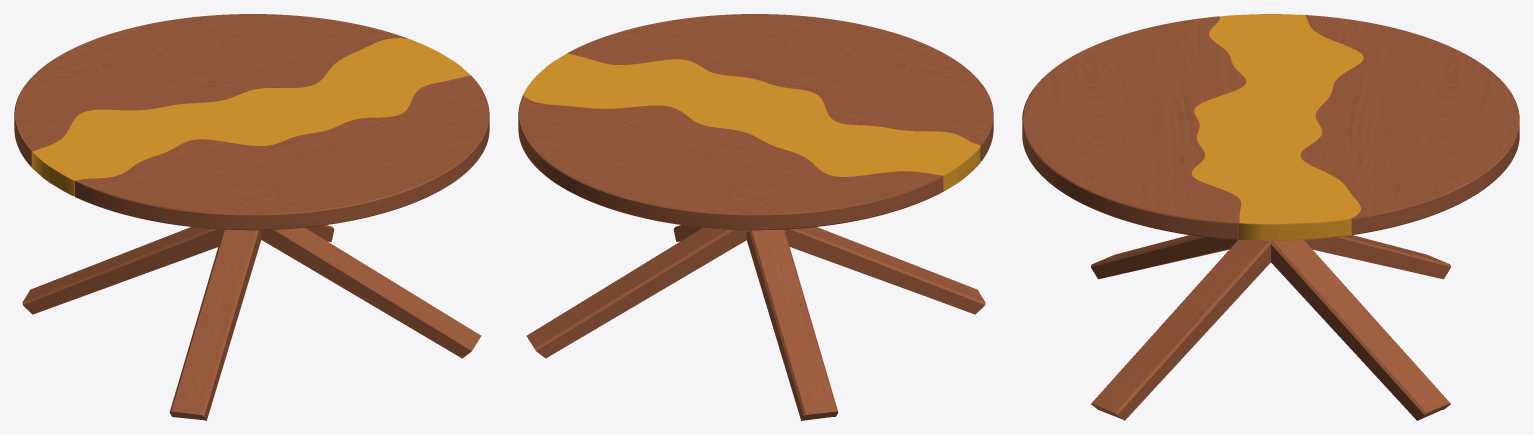
Rendered from round-cherry-epoxy-amber.glb.
3 views of the same model, side by side, from view 1: azimuth 30°, elevation 25°; view 2: azimuth 150°, elevation 25°; view 3: azimuth 270°, elevation 25° (orthographic). The views are drawn at different scales.
Visible parts, largest first — view 1: Wood_Round_EpoxyFar, Wood_Round_EpoxyNear, Resin_Round, Base_Round; view 2: Wood_Round_EpoxyNear, Wood_Round_EpoxyFar, Resin_Round, Base_Round; view 3: Wood_Round_EpoxyFar, Wood_Round_EpoxyNear, Resin_Round, Base_Round.
Boxes of the visible parts, x1,y1,x2,y2 form: Wood_Round_EpoxyFar: [75, 75, 489, 230]; Wood_Round_EpoxyNear: [14, 14, 406, 166]; Resin_Round: [31, 38, 470, 196]; Base_Round: [22, 225, 481, 420]; Wood_Round_EpoxyNear: [518, 95, 943, 230]; Wood_Round_EpoxyFar: [567, 14, 993, 161]; Resin_Round: [523, 53, 980, 191]; Base_Round: [526, 225, 985, 420]; Wood_Round_EpoxyFar: [1022, 16, 1245, 239]; Wood_Round_EpoxyNear: [1300, 15, 1519, 235]; Resin_Round: [1191, 14, 1363, 240]; Base_Round: [1091, 235, 1450, 420].
Size of the model in its own units: 1.52 by 0.762 by 1.52.
Materials: 2 (1 with a texture image).
